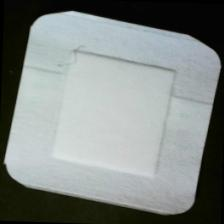Dressing: (1, 6, 224, 219)
F_Body: (54, 37, 90, 82)
